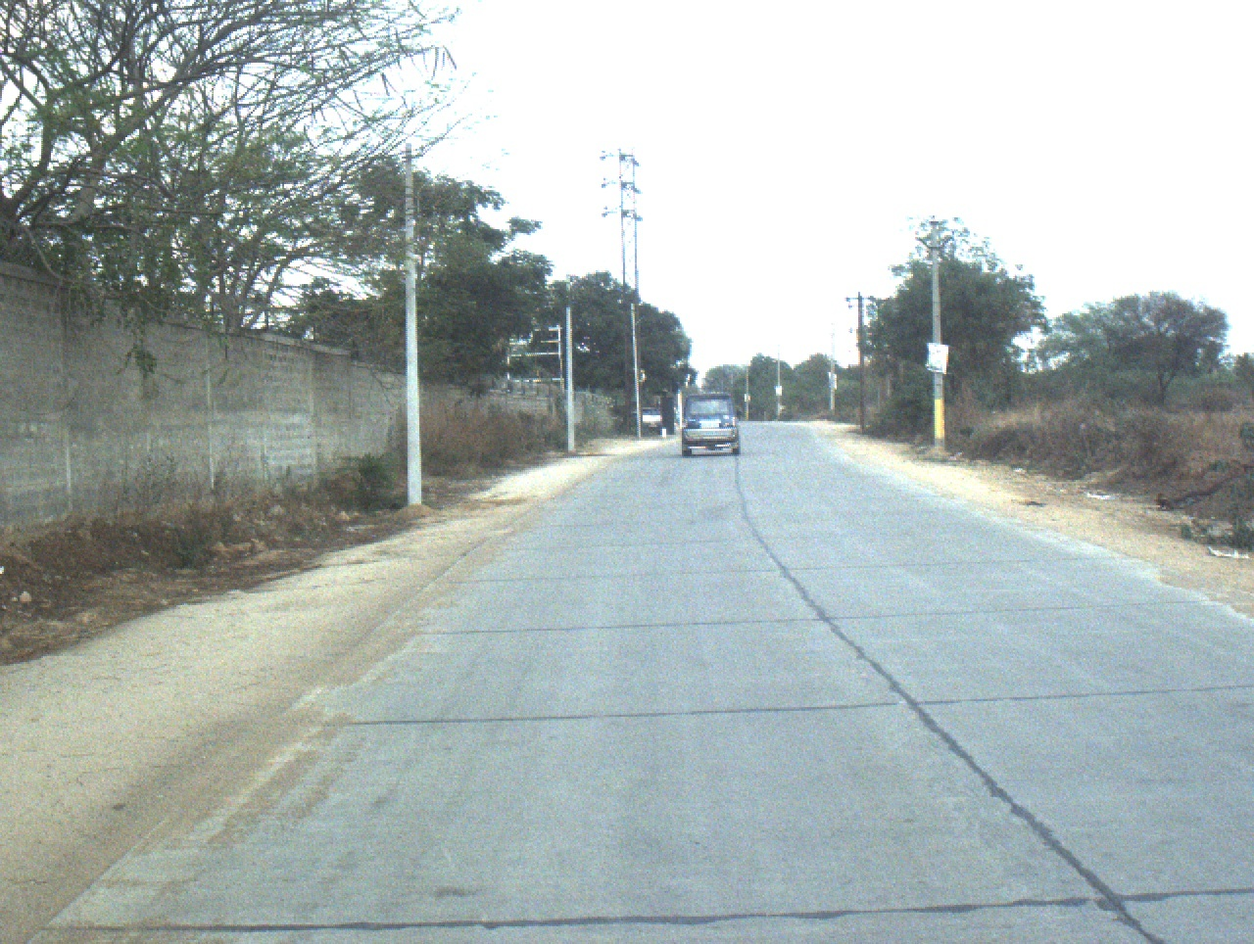car: (678, 392, 741, 455), (630, 403, 667, 436)
